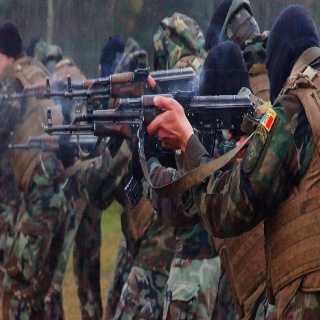rifle: (41, 93, 252, 140), (2, 66, 196, 99), (43, 108, 142, 141), (8, 133, 105, 164)
